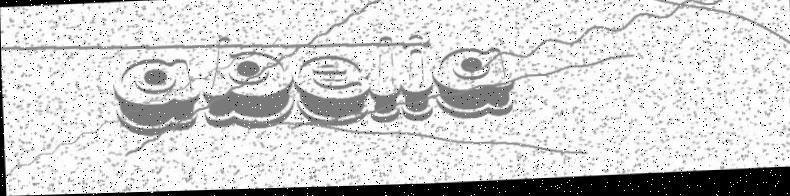a: (109, 52, 199, 139), (429, 45, 525, 126)
b: (201, 32, 299, 141)
e: (291, 46, 370, 133)
i: (398, 29, 436, 132), (368, 33, 403, 127)
